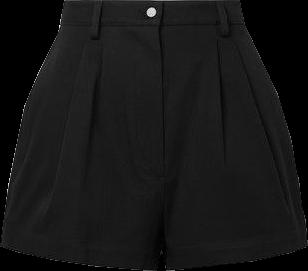Hemline: (1, 245, 156, 270), (165, 245, 307, 270)
Pantleg: (2, 1, 163, 269), (162, 0, 305, 269)
Waistline: (58, 22, 245, 27), (62, 0, 239, 3)
